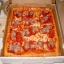pizza: (6, 6, 61, 59)
